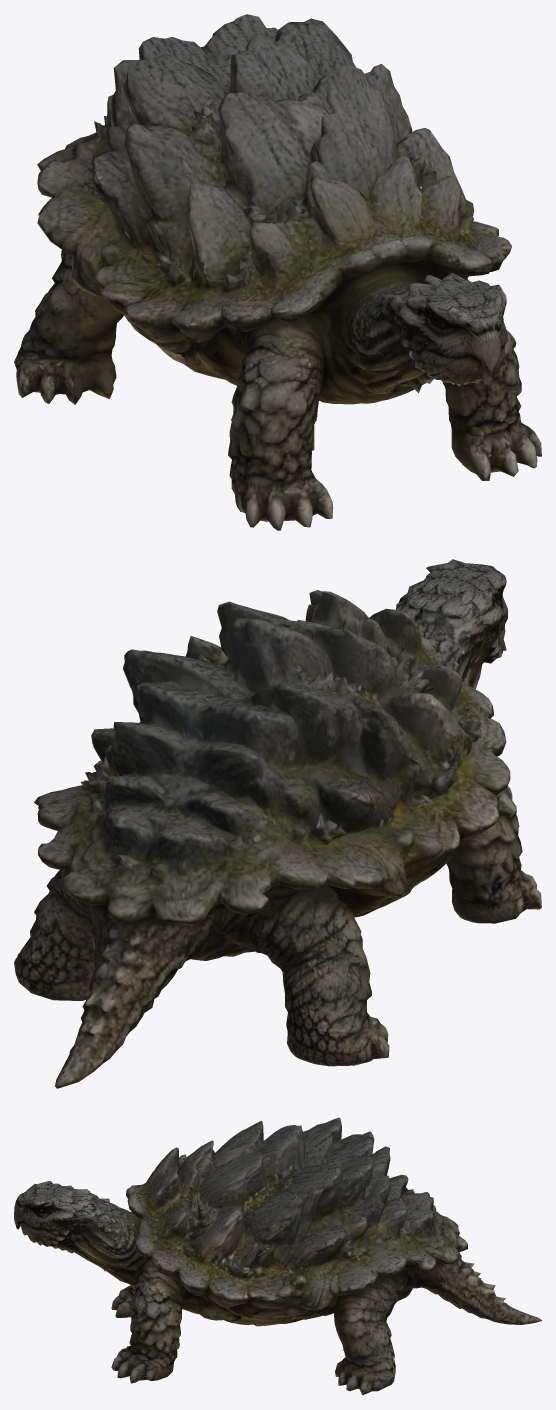
The model's file is omoro.glb.
The picture shows the model from 3 angles, top to bottom: view 1: azimuth 30°, elevation 25°; view 2: azimuth 150°, elevation 25°; view 3: azimuth 270°, elevation 25°; orthographic projection. The views are drawn at different scales.
Parts seen in each view (by area): view 1: tripo_node_f5607e7a-787a-410a-937b-be08c294e255; view 2: tripo_node_f5607e7a-787a-410a-937b-be08c294e255; view 3: tripo_node_f5607e7a-787a-410a-937b-be08c294e255.
Part boxes in pixels (x1,y1,x2,y2): tripo_node_f5607e7a-787a-410a-937b-be08c294e255: (14, 14, 541, 530); tripo_node_f5607e7a-787a-410a-937b-be08c294e255: (14, 559, 541, 1088); tripo_node_f5607e7a-787a-410a-937b-be08c294e255: (14, 1117, 541, 1395).
Bounding box in the file's own units: 0.4885 × 0.4513 × 1.
Materials: 1 (1 with a texture image).
